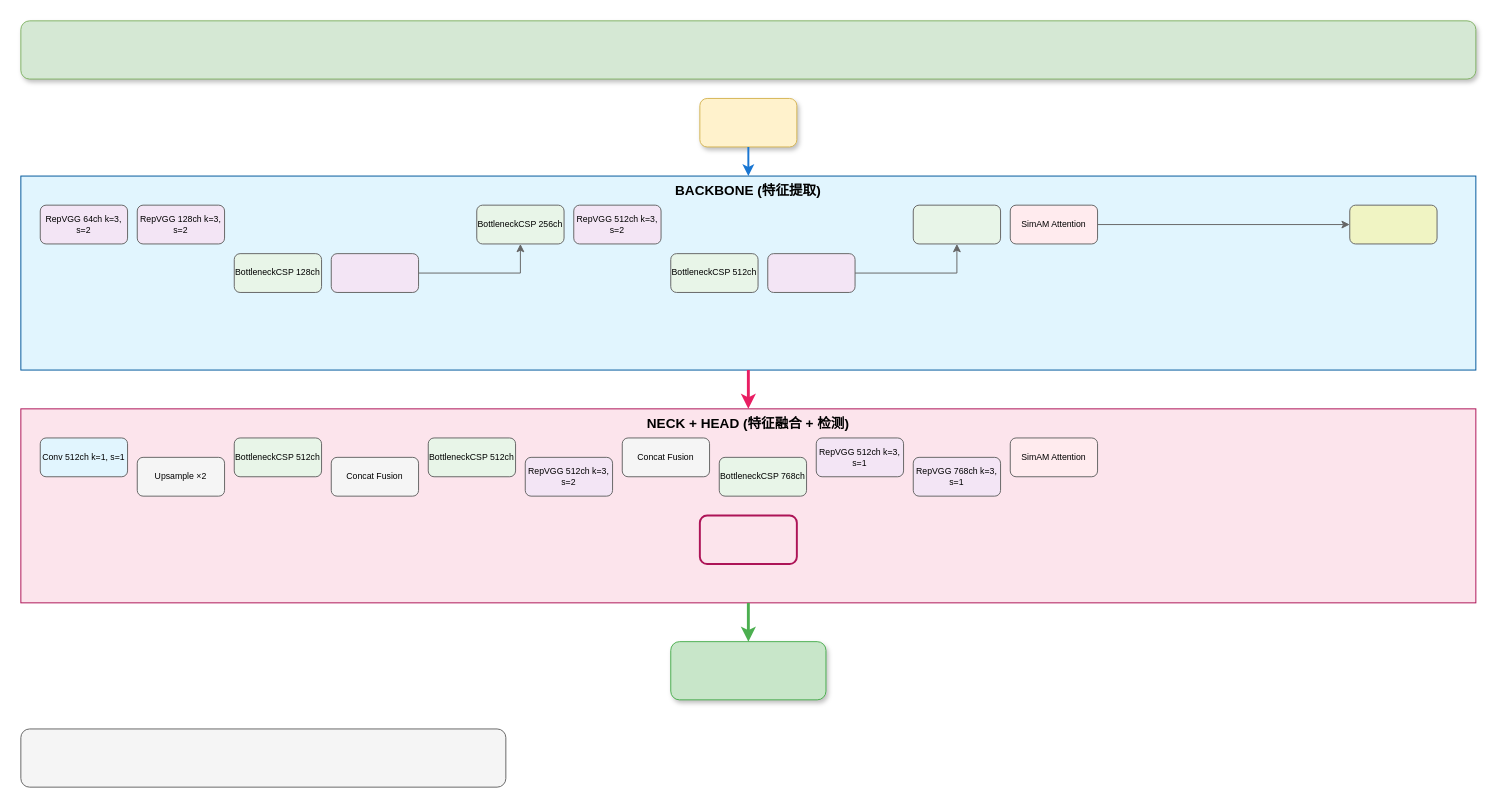
Some shapes in this 1499 by 804 pixel diagram are drawn without their labels. Here are the shapes that lost their labels. From the top down, the centre of each, then its label:
At point (749, 51): "YOLOv4-RepVGG-SimAM RepVGG卷积 + CSP backbone + SimAM注意力 + IDetect检测头".
At point (749, 124): "Input Image 640×640×3".
At point (956, 224): "BottleneckCSP 1024ch".
At point (1393, 224): "SPPF 1024ch".
At point (374, 272): "RepVGG 256ch k=3, s=2".
At point (811, 272): "RepVGG 1024ch k=3, s=2".
At point (747, 539): "IDetect Classes: nc".
At point (749, 672): "Detection Results Bounding Boxes + Confidence Scores".
At point (263, 757): "模块图例 ■ 标准卷积 ■ RepVGG ■ CSP ■ RCS-OSA ■ 注意力".
